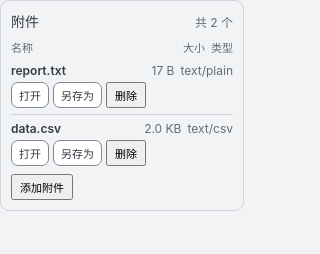
Scenario: AttachmentPanel › shows Chinese messages for attachment failures
Click the button "添加附件" at (42, 187), box [11,174,73,200]
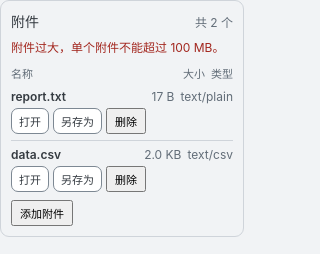
Check: the message reads "附件过大，单个附件不能超过 100 MB。", box [11,40,224,55]
